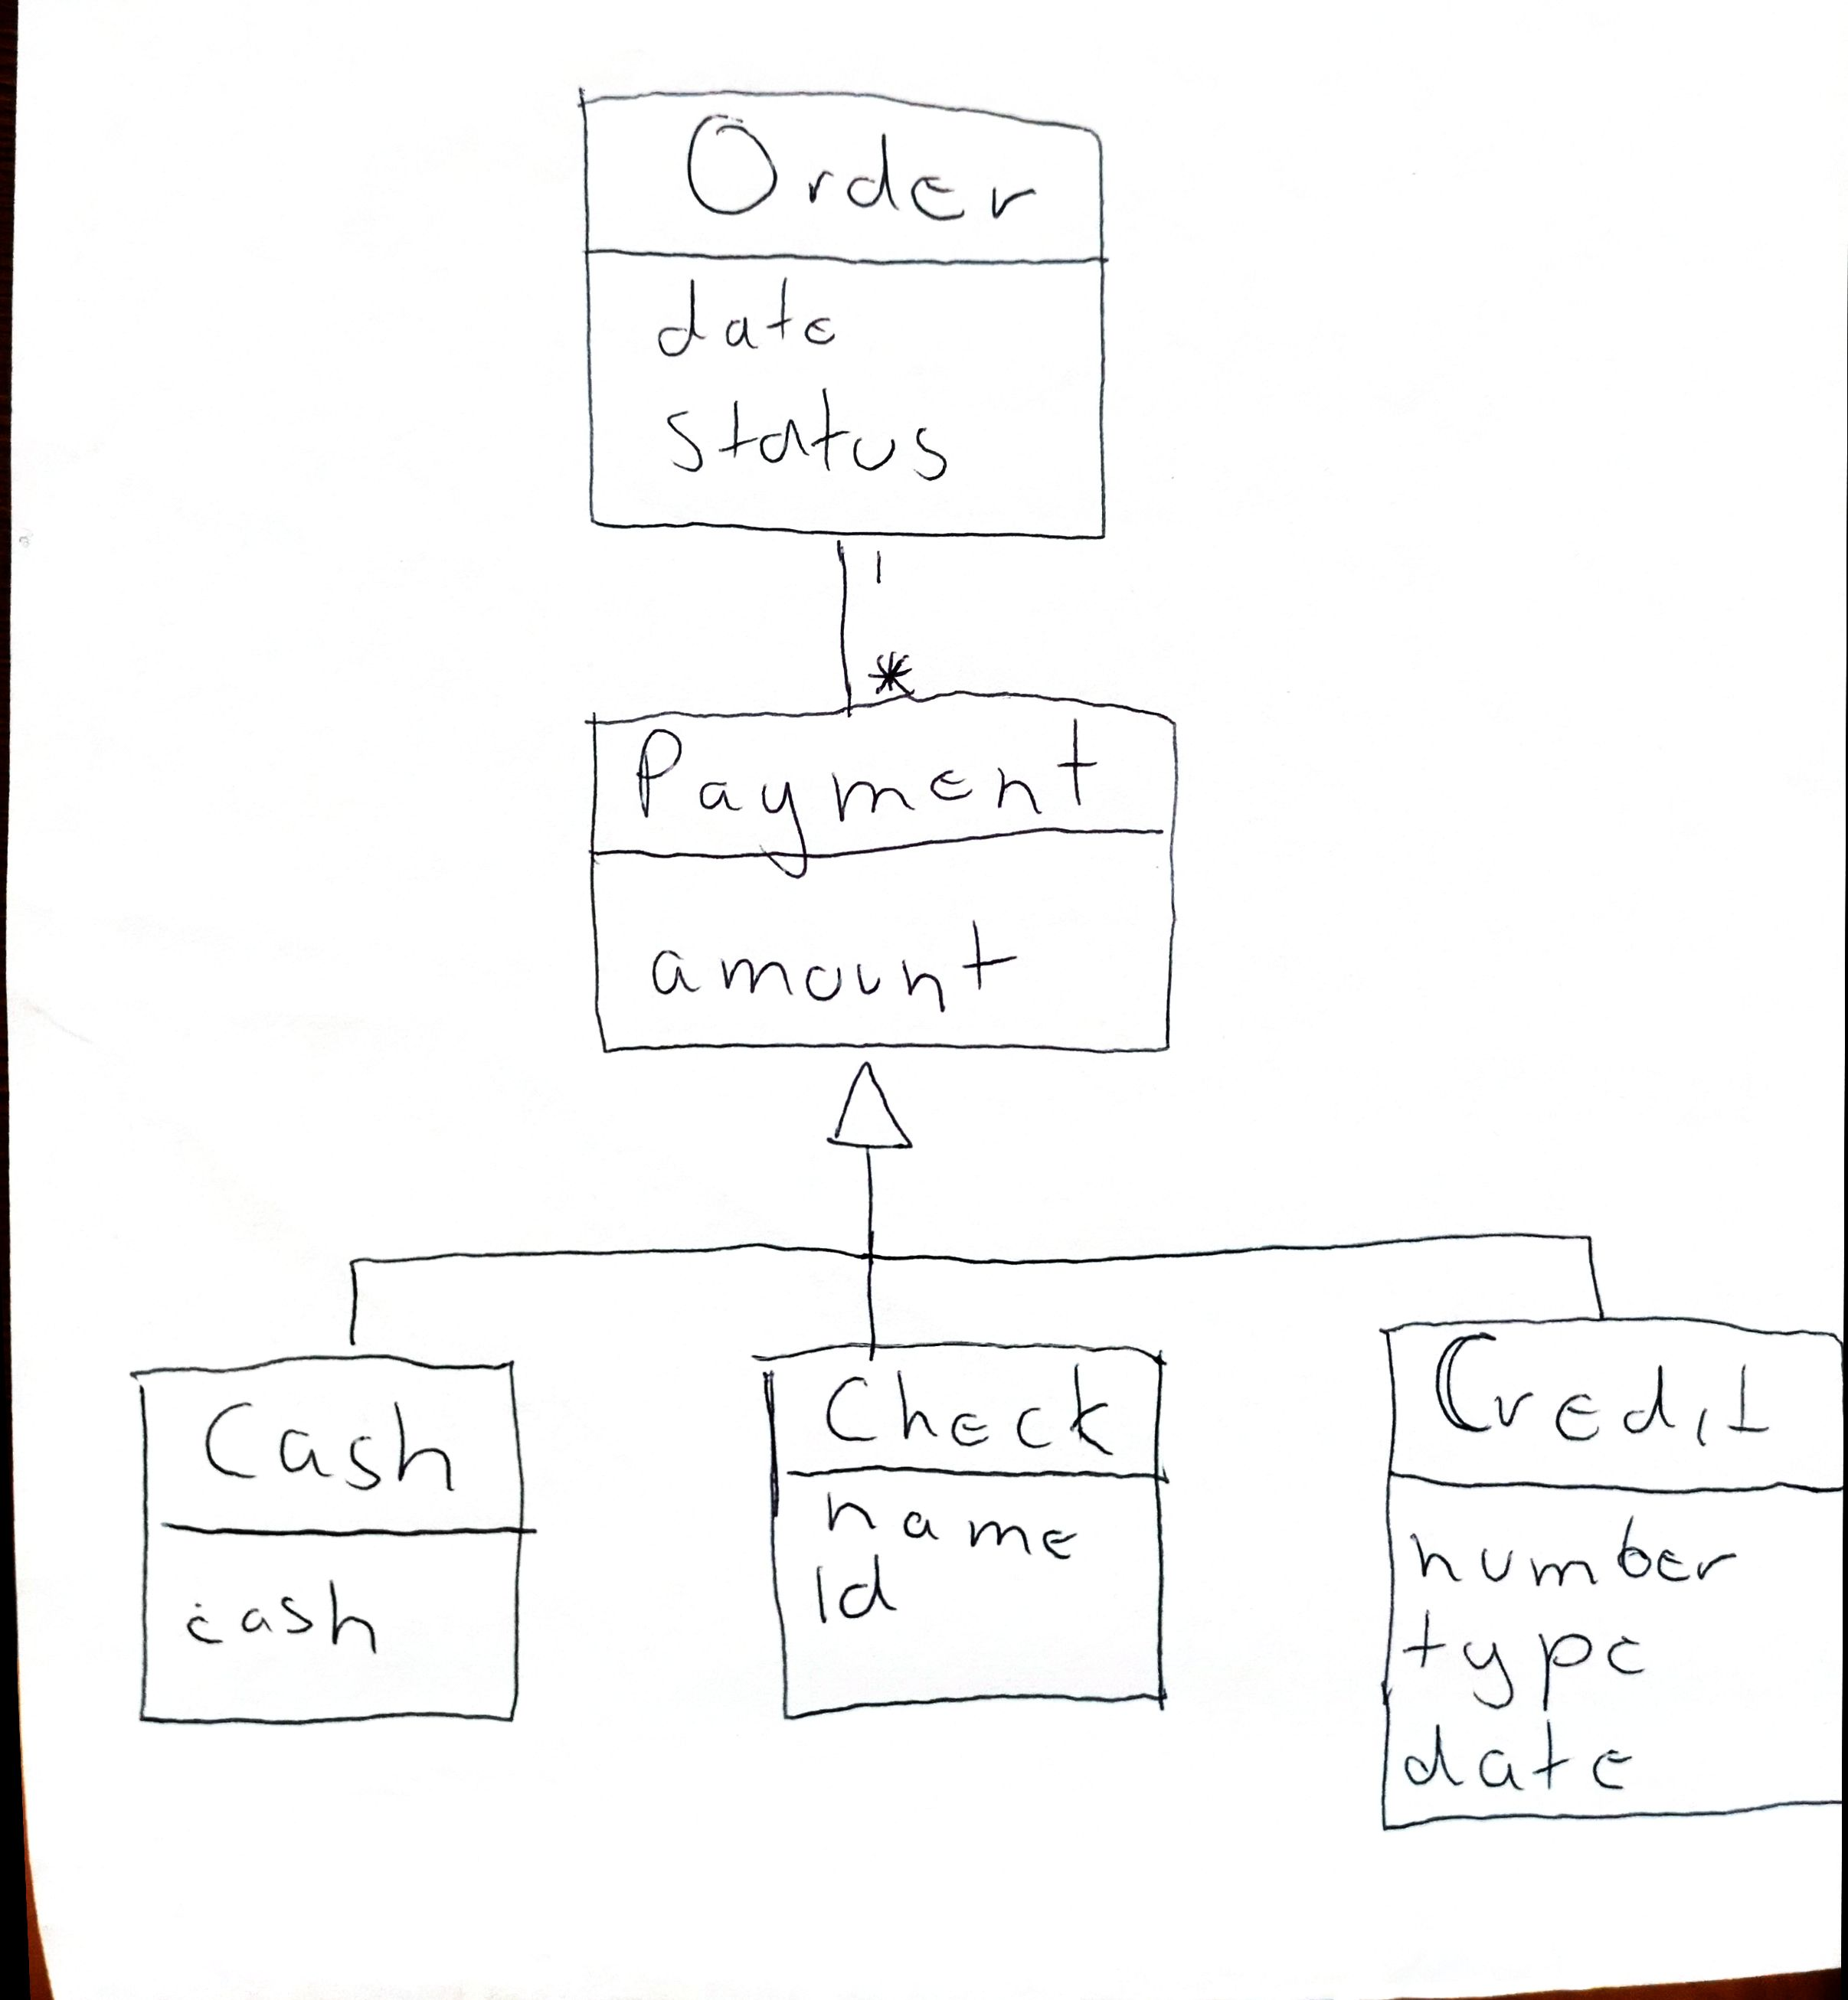association: (787, 520, 925, 730)
class attributes: (571, 75, 1113, 551), (1376, 1311, 1848, 1830), (582, 685, 1181, 1067), (750, 1331, 1178, 1720), (126, 1354, 528, 1737)
inheritance: (320, 1044, 1640, 1355)
